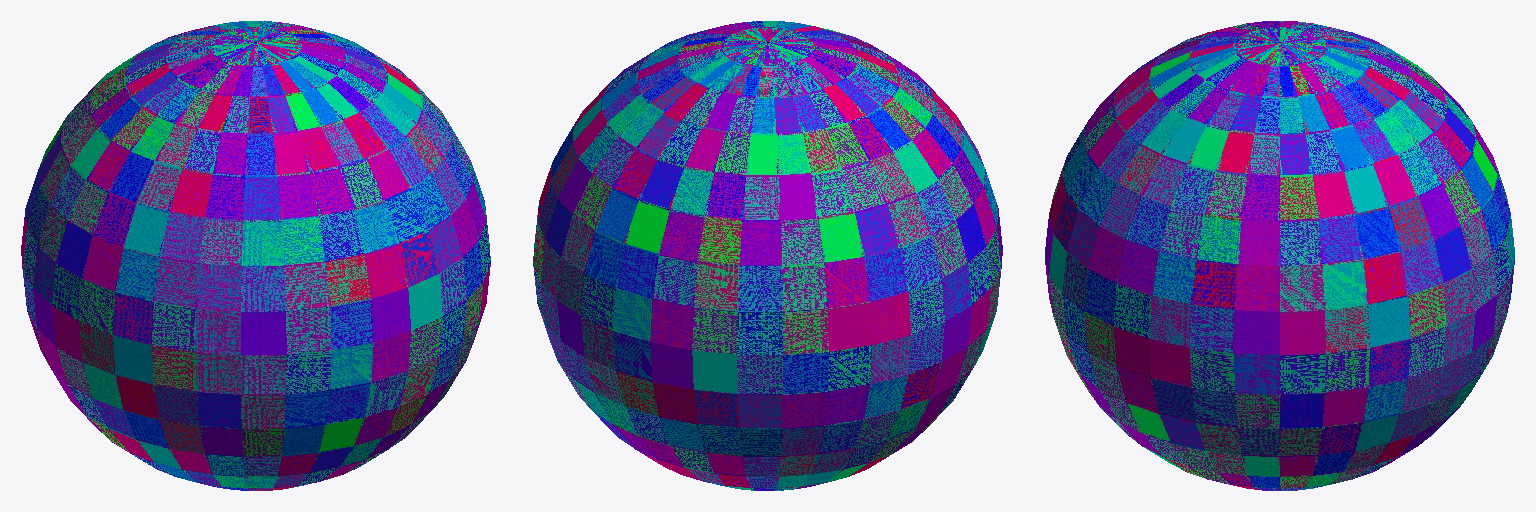
The picture shows the model from 3 angles: view 1: azimuth 30°, elevation 25°; view 2: azimuth 150°, elevation 25°; view 3: azimuth 270°, elevation 25°; orthographic projection.
Parts seen in each view (by area): view 1: Sphere; view 2: Sphere; view 3: Sphere.
Boxes of the visible parts, box(x1,y1,x2,y2) form: Sphere: box(21, 21, 490, 490); Sphere: box(533, 21, 1002, 490); Sphere: box(1045, 21, 1514, 490).
Size of the model in its own units: 2 by 2 by 2.
Materials: 1 (1 with a texture image).